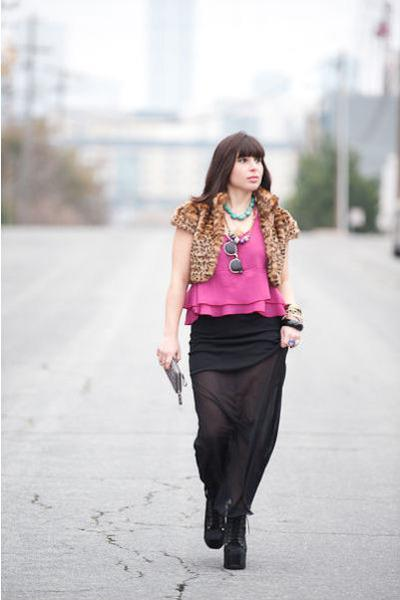jacket: (171, 184, 289, 290)
shirt: (181, 234, 294, 323)
shoe: (204, 510, 246, 569)
skirt: (185, 311, 299, 515)
